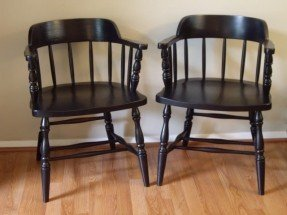chairs: (17, 17, 153, 203), (155, 8, 287, 199)
